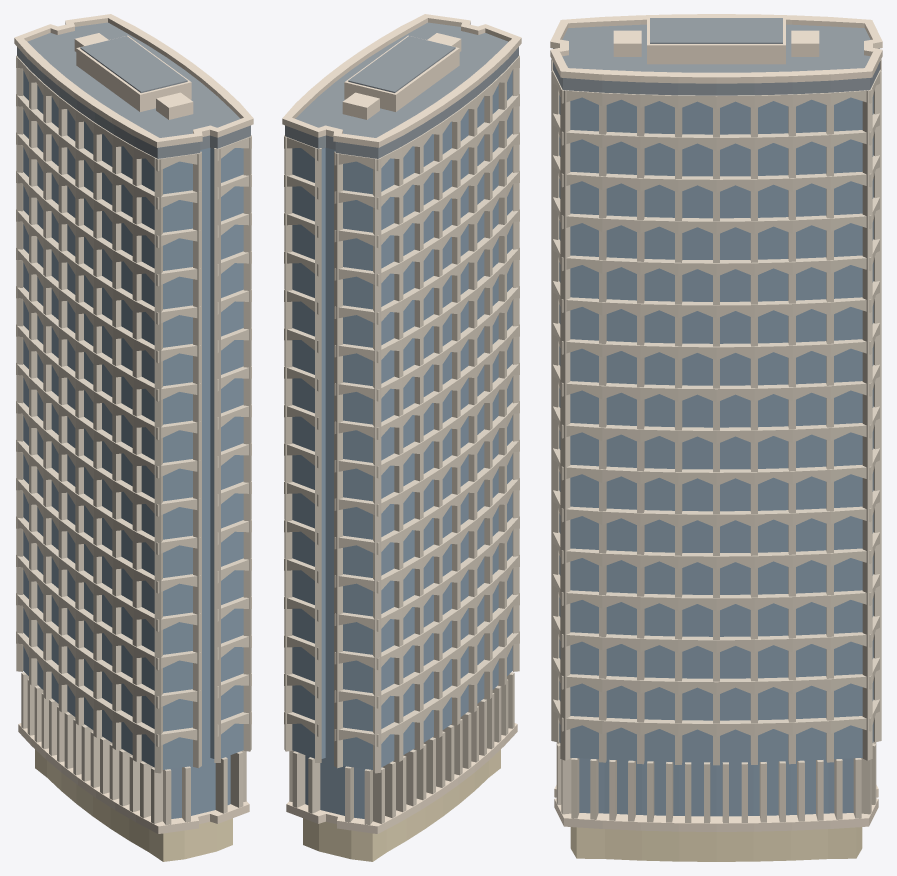
The model's file is london-centre-point.glb.
3 views of the same model, side by side, from view 1: azimuth 30°, elevation 25°; view 2: azimuth 150°, elevation 25°; view 3: azimuth 270°, elevation 25° (orthographic). The views are drawn at different scales.
Parts seen in each view (by area): view 1: Centre Point; view 2: Centre Point; view 3: Centre Point.
Part boxes in pixels (x1,y1,x2,y2): Centre Point: [14, 14, 253, 861]; Centre Point: [282, 14, 521, 861]; Centre Point: [550, 14, 882, 861].
Size of the model in its own units: 19.4 by 116 by 43.02.
